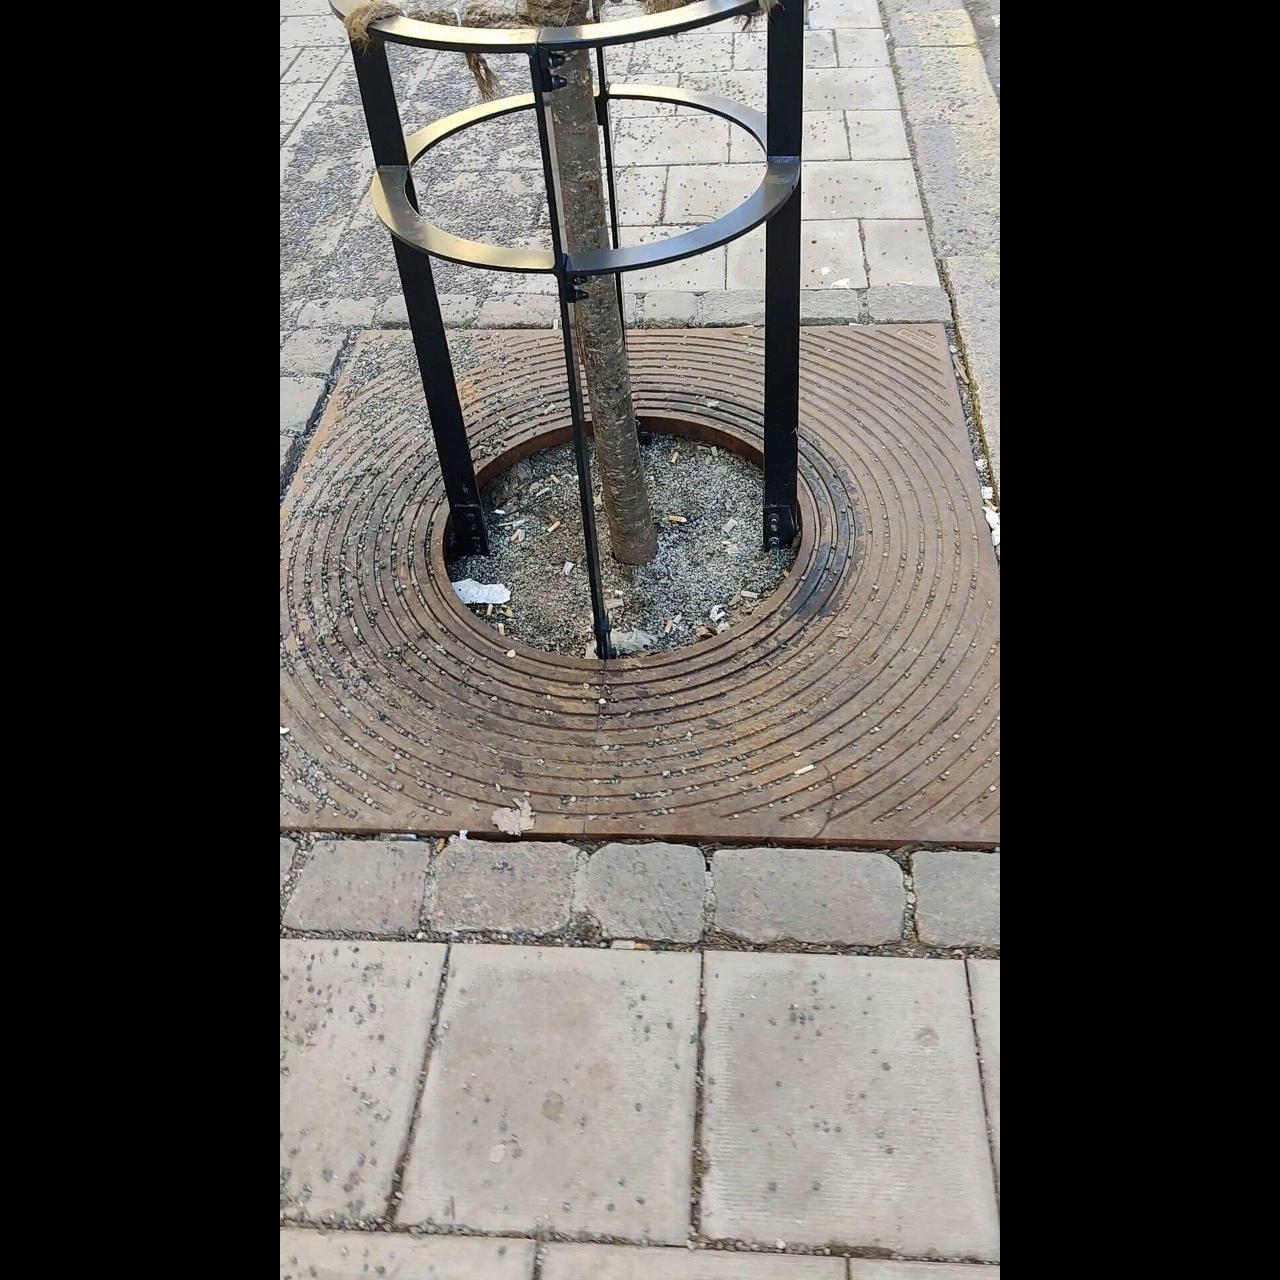cigarettes_butts: (985, 498, 1000, 512), (668, 515, 688, 523), (663, 619, 672, 635), (485, 605, 493, 620), (498, 620, 506, 635), (547, 523, 561, 531), (510, 530, 518, 542), (672, 451, 678, 465), (551, 472, 558, 483)
others: (791, 765, 815, 776), (738, 590, 760, 600), (558, 561, 572, 576), (542, 403, 554, 415)
